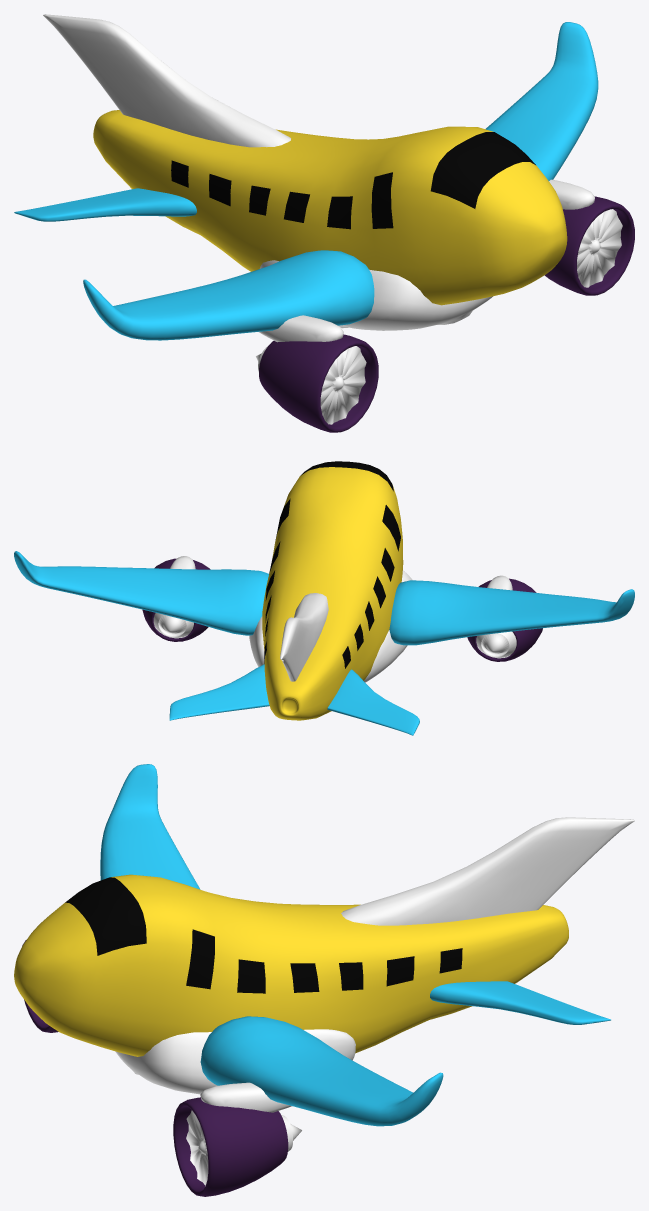
Rendered from ToyObject_001.fbx.
3 renders of one model, top to bottom at view 1: azimuth 30°, elevation 25°; view 2: azimuth 150°, elevation 25°; view 3: azimuth 270°, elevation 25°, orthographic. The views are drawn at different scales.
Parts seen in each view (by area): view 1: 1.051; view 2: 1.051; view 3: 1.051.
Part boxes in pixels (left/top/right/bottom): 1.051: left=14, top=14, right=634, bottom=432; 1.051: left=14, top=461, right=634, bottom=735; 1.051: left=14, top=764, right=634, bottom=1196.
Size of the model in its own units: 0.2866 by 0.0936 by 0.2378.
